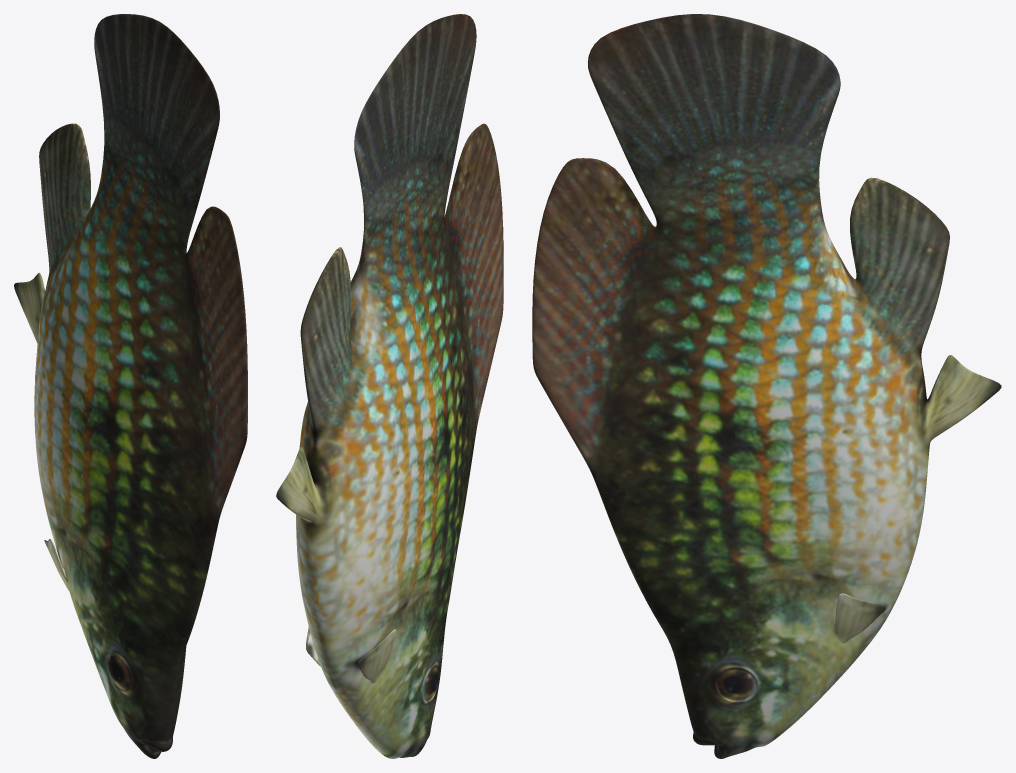
The model's file is 13002_American_Flagfish_v1_l3.obj.
The picture shows the model from 3 angles, left to right: view 1: azimuth 30°, elevation 25°; view 2: azimuth 150°, elevation 25°; view 3: azimuth 270°, elevation 25°; orthographic projection. The views are drawn at different scales.
Parts seen in each view (by area): view 1: 13002_American_Flagfish_v1; view 2: 13002_American_Flagfish_v1; view 3: 13002_American_Flagfish_v1.
Part boxes in pixels (box(x1,y1,x2,y2)): 13002_American_Flagfish_v1: box(14, 14, 247, 758); 13002_American_Flagfish_v1: box(276, 14, 503, 758); 13002_American_Flagfish_v1: box(532, 14, 1001, 758).
Bounding box in the file's own units: 0.8278 × 5.91 × 3.37.
1 material, 1 textured.
